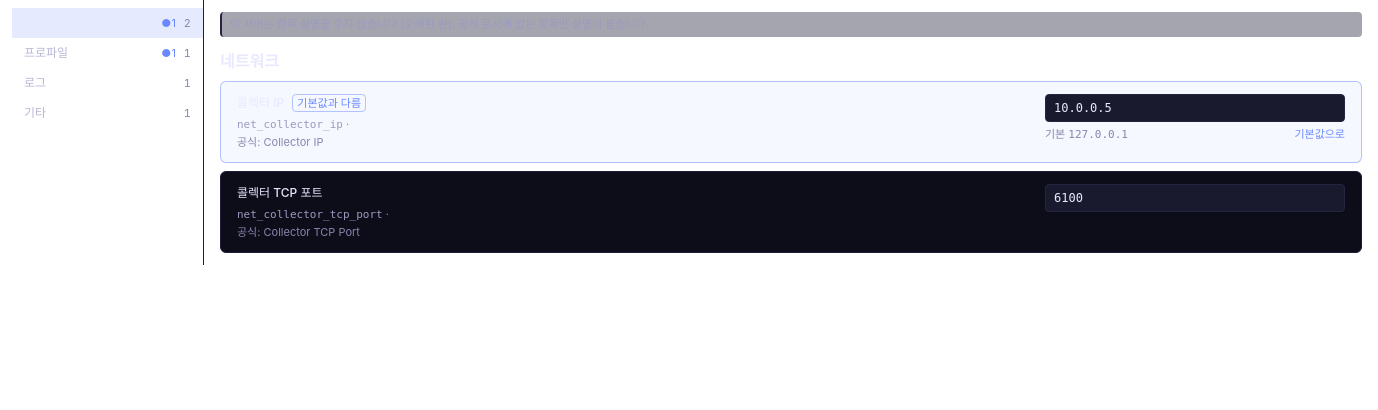
Test case: SettingsForm — 저장 › 저장 전에 무엇이 바뀌는지 한국어 이름과 함께 보여 준다
The width and height of the screenshot is (1378, 410).
Replace the text in the field named "net_collector_ip" with "10.0.0.9" at (1195, 108), box [1045,94,1345,122]
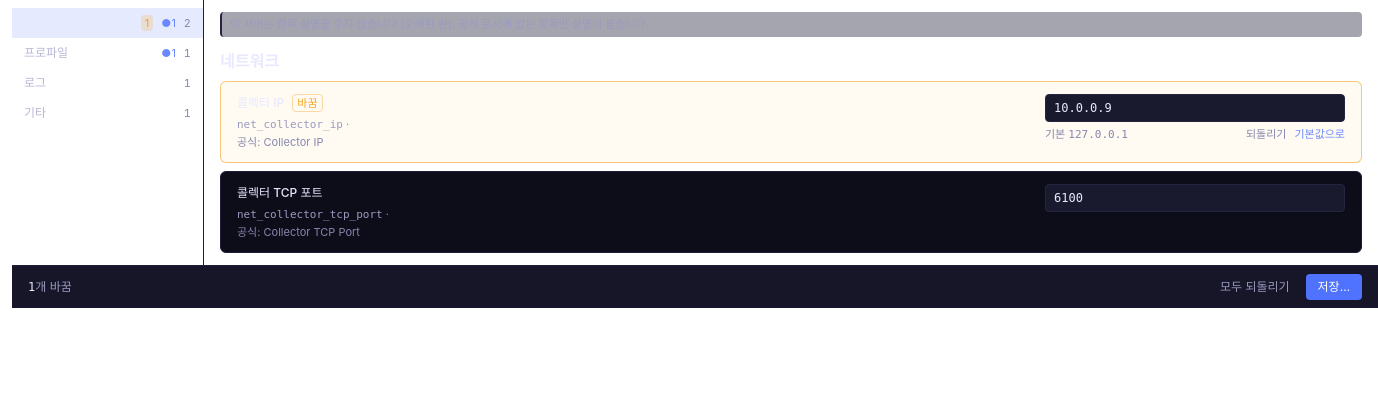
Click the button "저장…".
click(1334, 287)  # box [1306,274,1362,300]
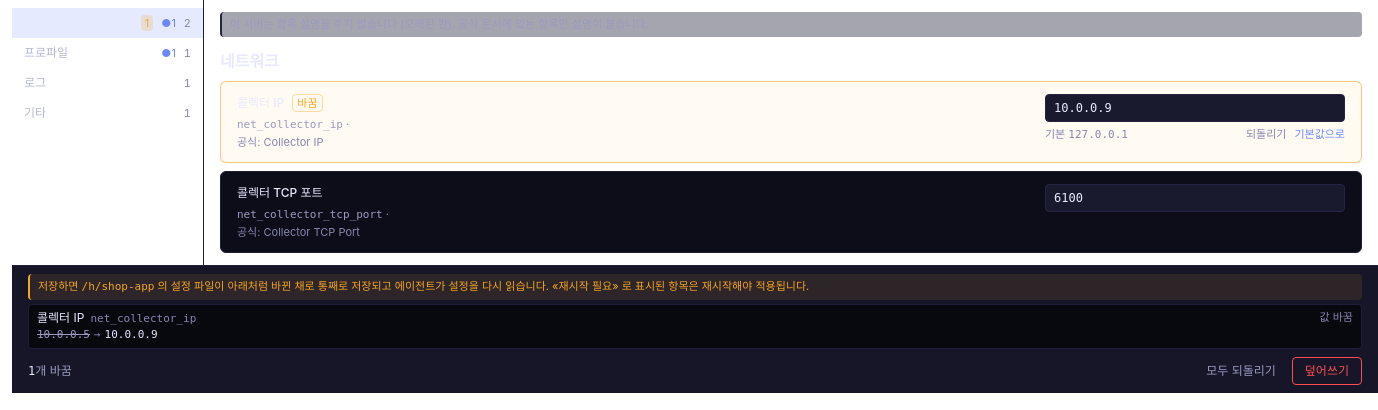
Check: the text "값 바꿈" is shown, box [1320,308,1353,327]
Check: the text "10.0.0.9" is shown, box [105,328,158,341]
Check: the button "덮어쓰기" is shown, box [1292,356,1362,384]
